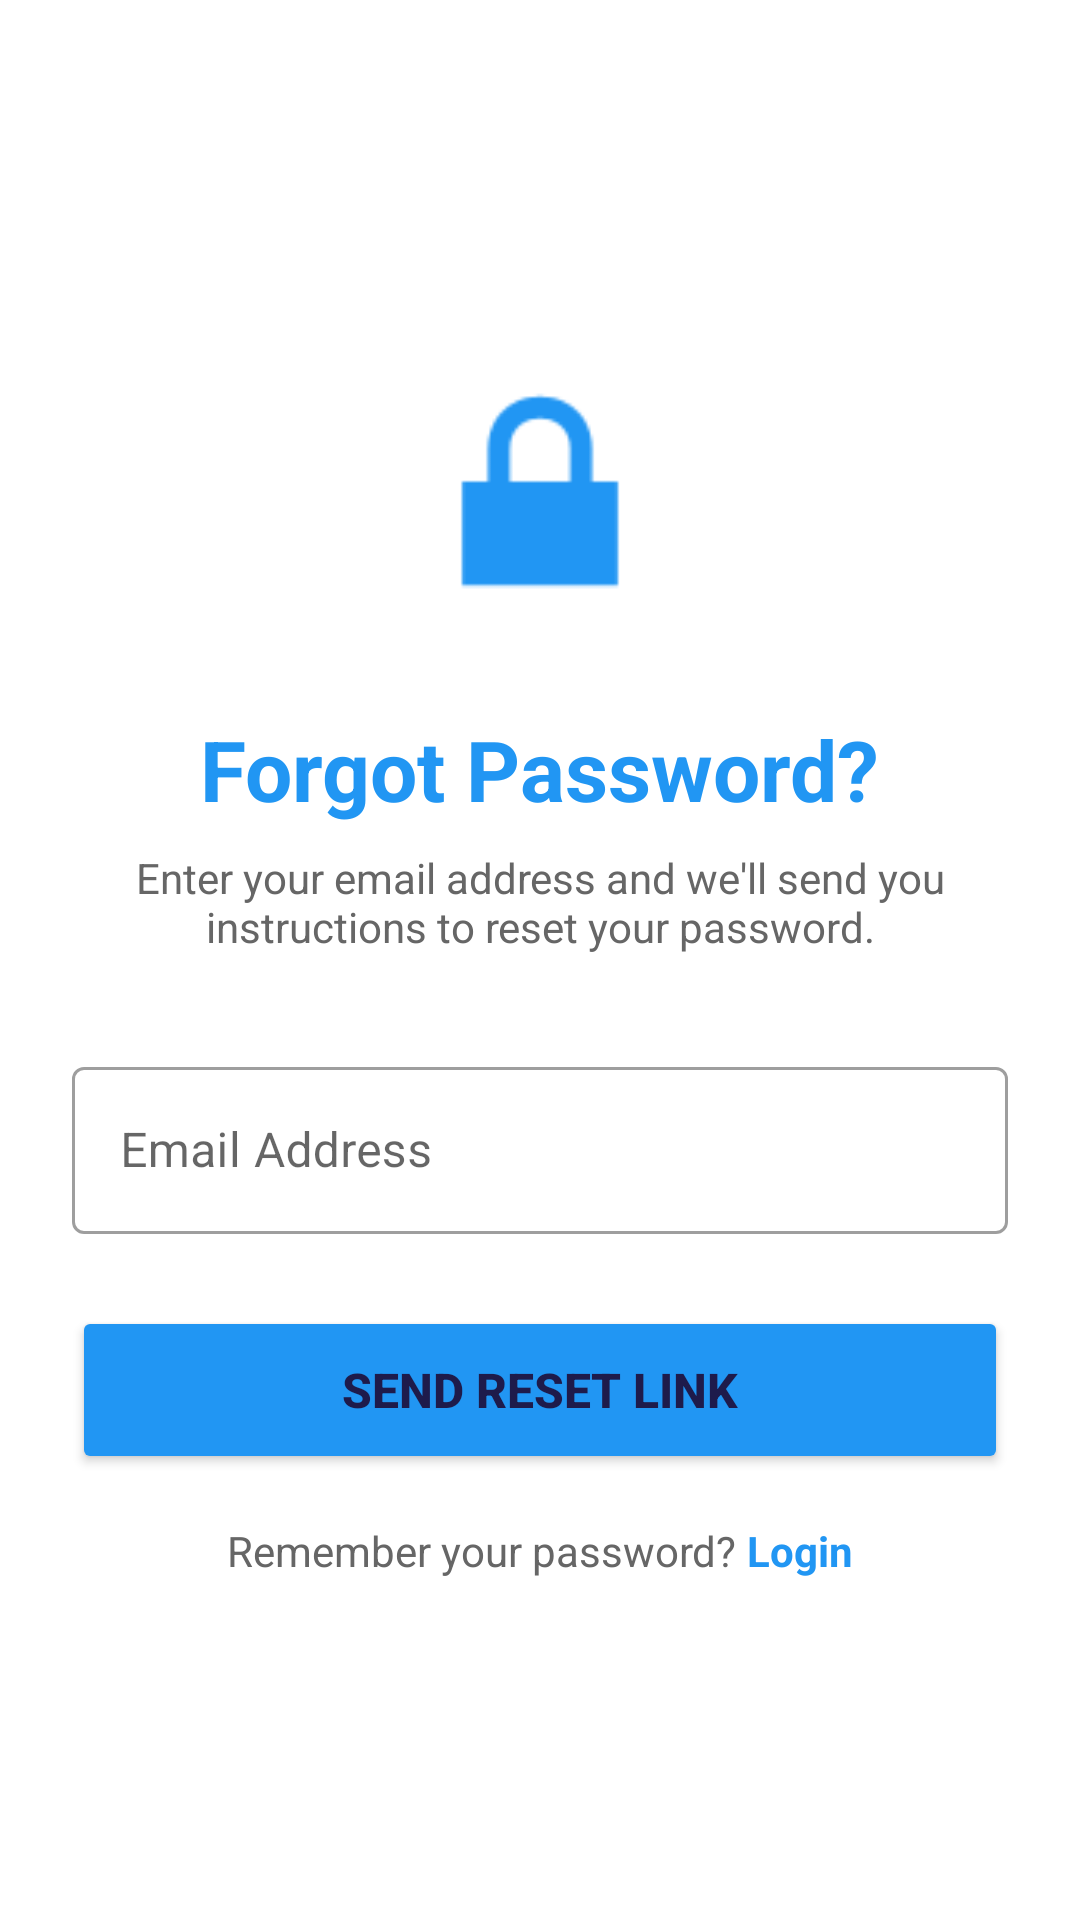

Screen size 1080*1920. Icon name, then its box in pixels as (x1, y1, x2, y2):
lock: (461, 394, 619, 588)
